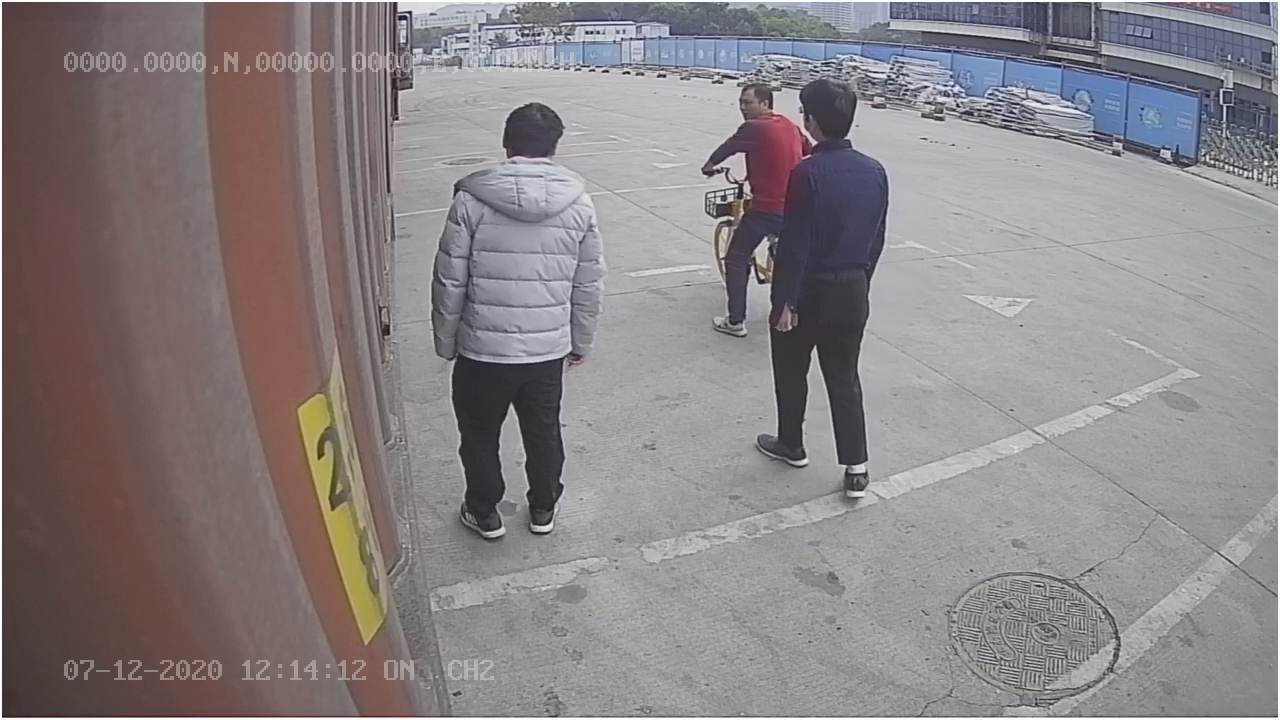person: (430, 96, 610, 539)
